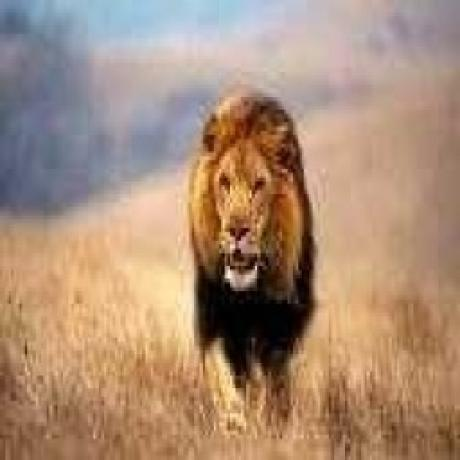Lion: (188, 83, 323, 400)
